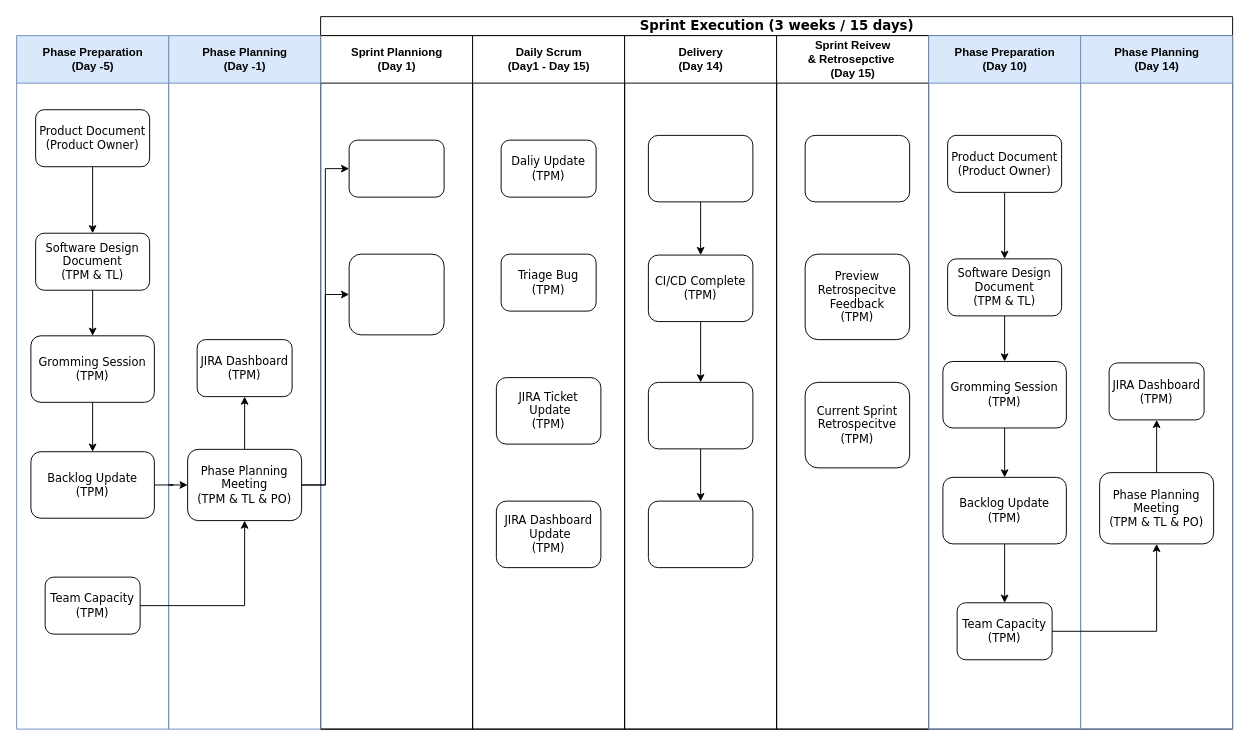
The diagram is 1249 pixels wide and 746 high, and some of its shapes have lost their labels. The centre of each missing label's shape, as x and y in pixels:
Breakdown & Distribution (TPM & TL): (x=396, y=294)
Feature Demo (TPM): (x=700, y=534)
Platform Publish (TPM): (x=700, y=415)
Spring Goal (TPM): (x=396, y=168)
Sprint Reivew (TPM): (x=857, y=168)
System Test (TPM): (x=700, y=168)
